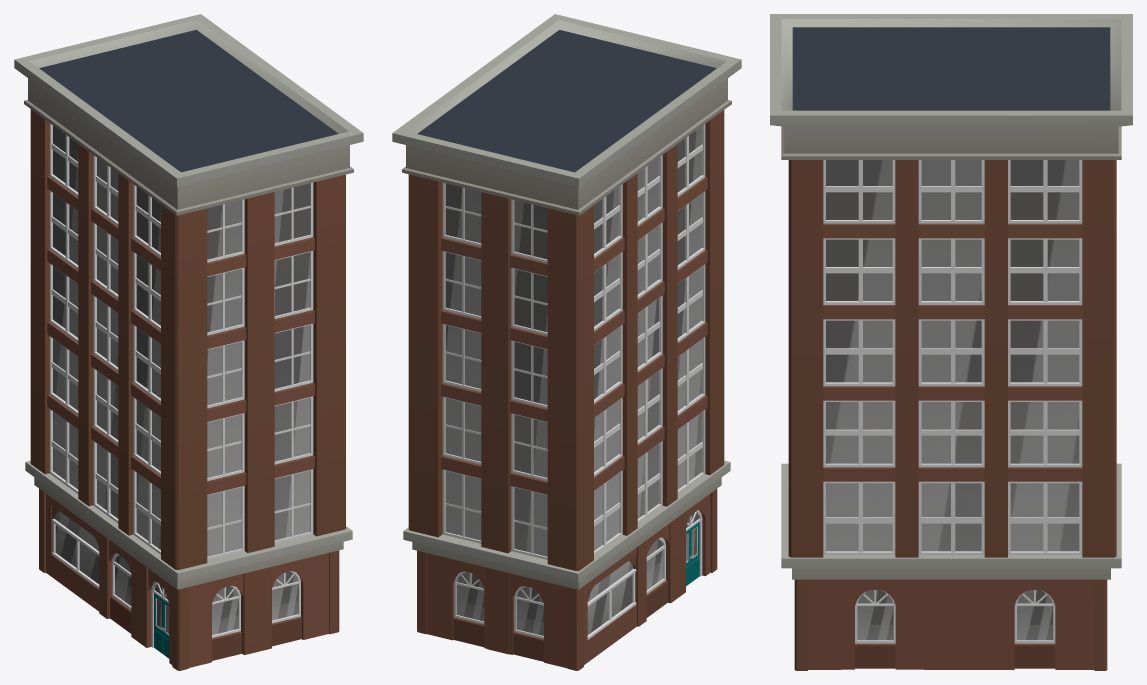
File: Building_27_O.fbx
3 renders of one model, left to right at view 1: azimuth 30°, elevation 25°; view 2: azimuth 150°, elevation 25°; view 3: azimuth 270°, elevation 25°, orthographic. The views are drawn at different scales.
Visible parts, largest first — view 1: Building_27_O; view 2: Building_27_O; view 3: Building_27_O.
Part boxes in pixels (x1,y1,x2,y2): Building_27_O: (14, 14, 363, 670); Building_27_O: (392, 14, 741, 670); Building_27_O: (770, 14, 1132, 670).
Size of the model in its own units: 765 by 1974 by 1155.
